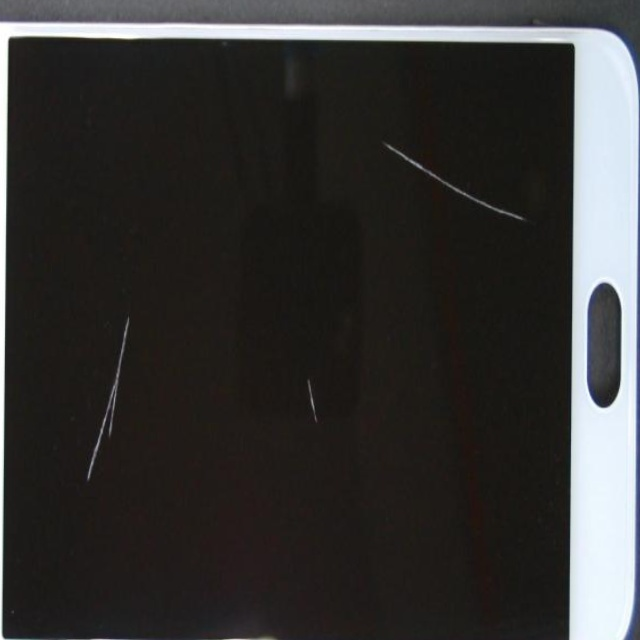scratch: (121, 137, 486, 562), (59, 32, 200, 562), (311, 146, 640, 283)
